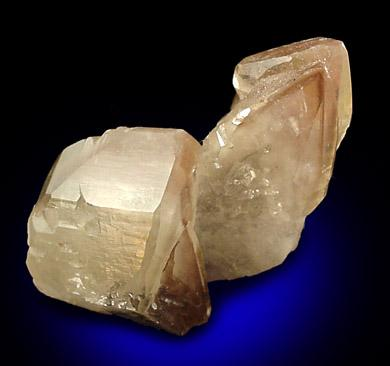calcite: (27, 38, 351, 313)
